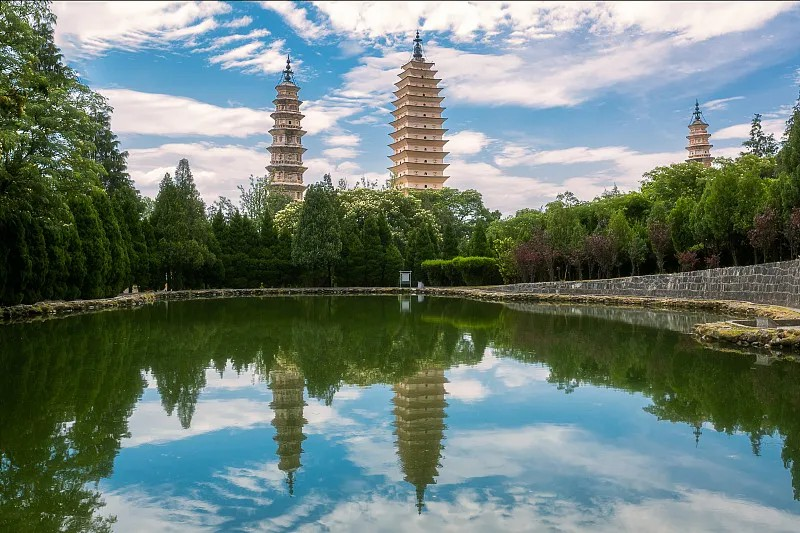ThreePagoda: (387, 30, 450, 189)
